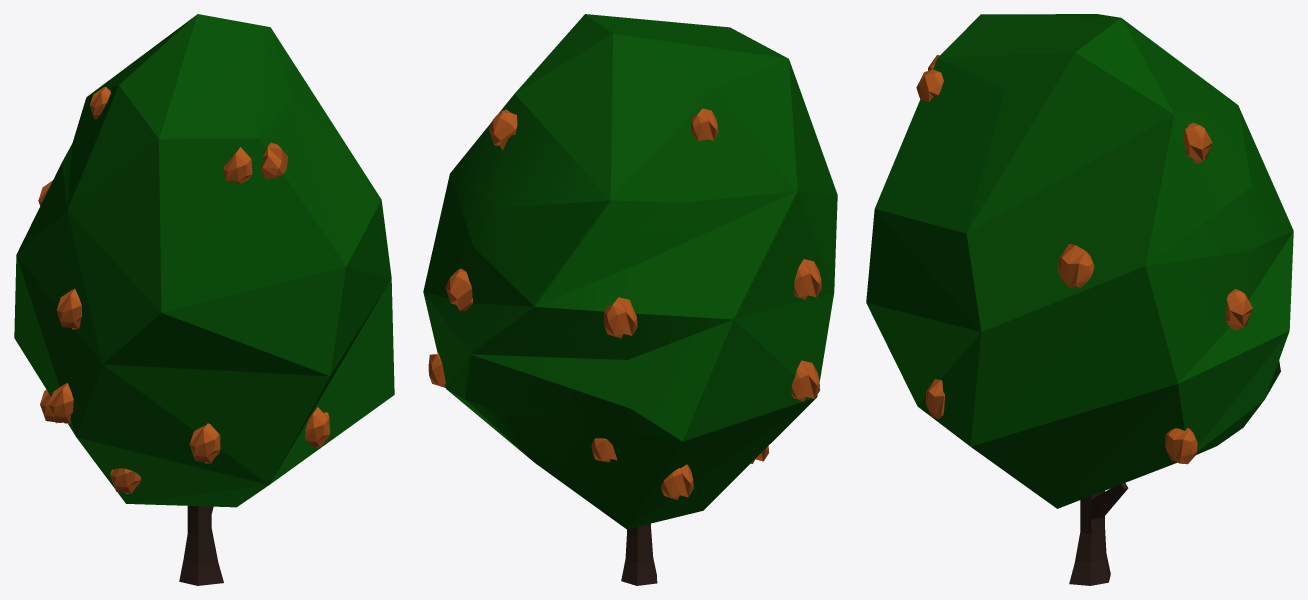
File: Tree11.fbx
3 renders of one model, left to right at view 1: azimuth 30°, elevation 25°; view 2: azimuth 150°, elevation 25°; view 3: azimuth 270°, elevation 25°, orthographic. The views are drawn at different scales.
Visible parts, largest first — view 1: TreeFruitOrange; view 2: TreeFruitOrange; view 3: TreeFruitOrange.
Part boxes in pixels (x1,y1,x2,y2): TreeFruitOrange: (14, 14, 394, 585); TreeFruitOrange: (423, 14, 837, 585); TreeFruitOrange: (866, 14, 1293, 585).
Bounding box in the file's own units: 1.2 × 1.87 × 1.28.
